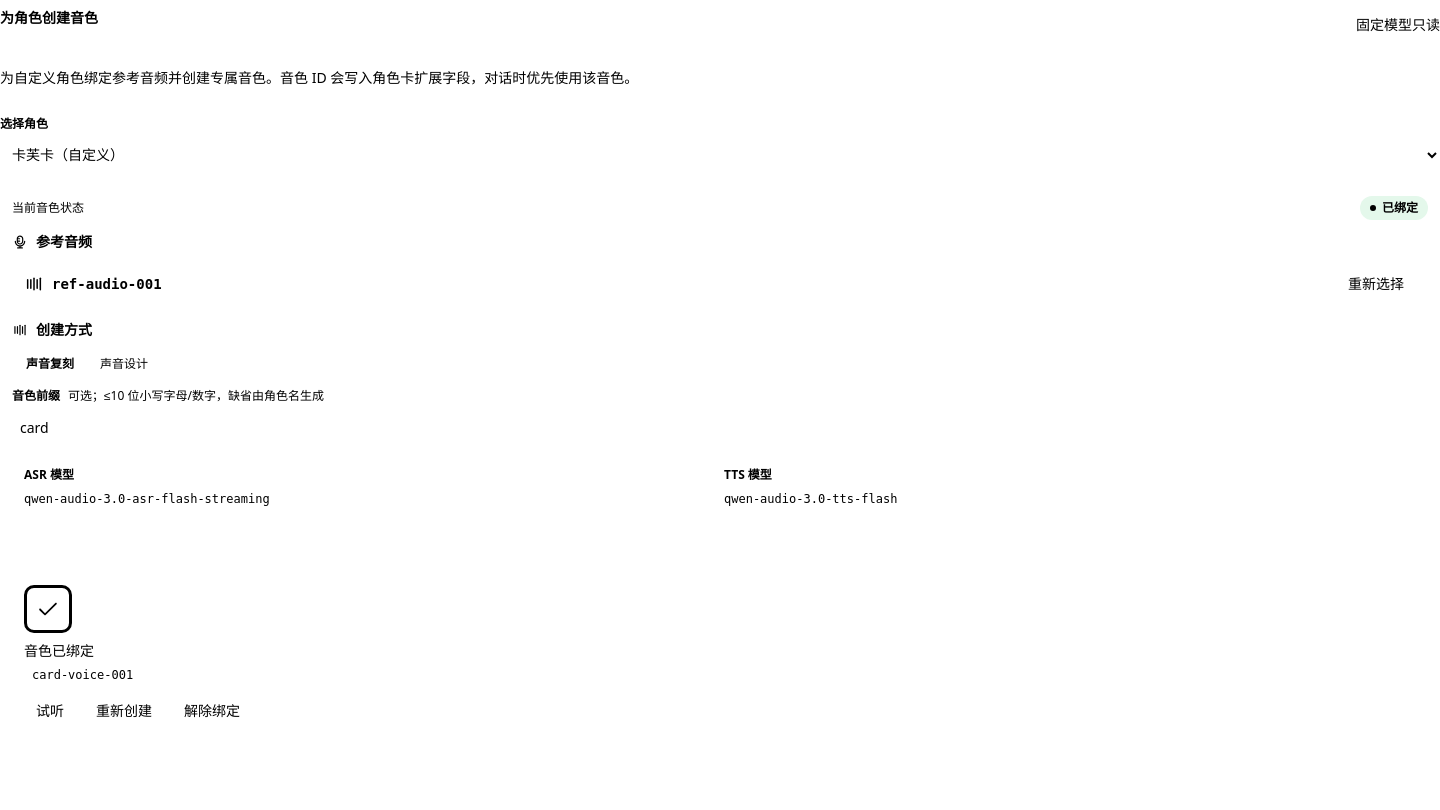
Test: CharacterVoiceSection › 解除绑定需二次确认，确认后经 voice.card_unbind 回到未配置
Expected: the field with test id "prefix-input" holds "card", x1=12 y1=410 x2=1428 y2=444
Step 1. Click the button with test id "unbind-voice-btn" → (212, 711), box x1=172 y1=695 x2=252 y2=727
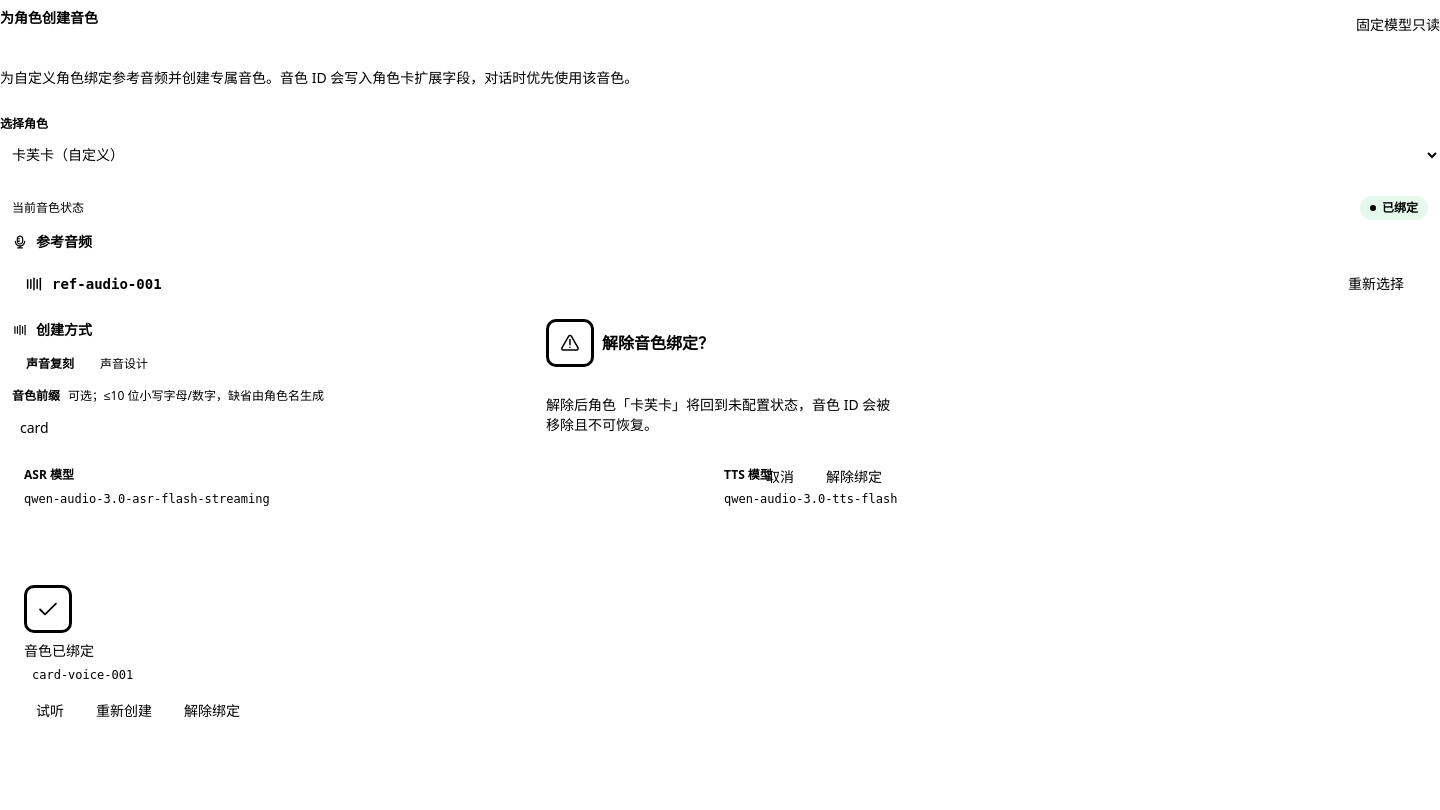
Step 2. Click the button with test id "confirm-cancel" → (780, 477), box x1=754 y1=461 x2=806 y2=493
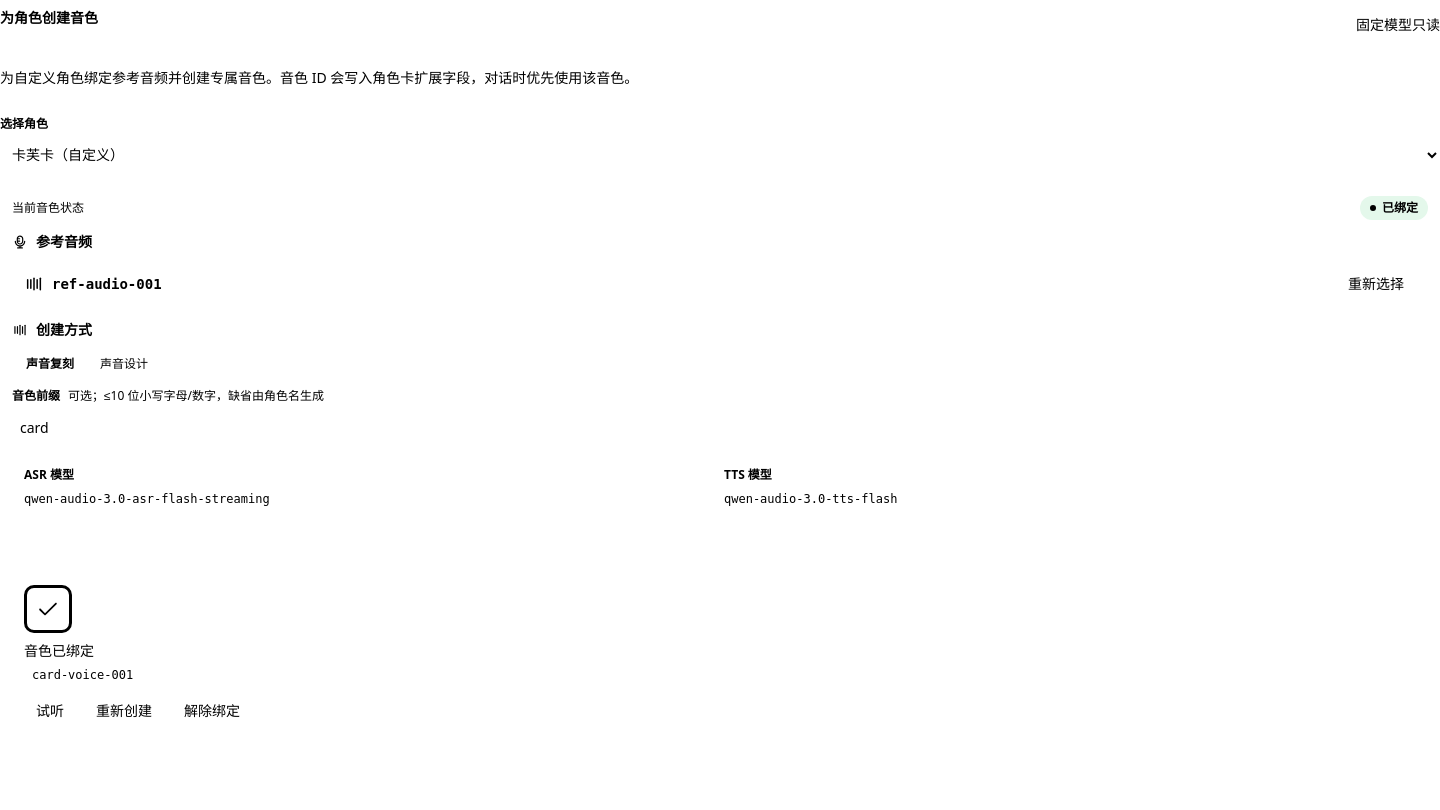
Expected: the dialog with test id "voice-confirm-modal" is gone
Step 3. Click the button with test id "unbind-voice-btn" → (212, 711), box x1=172 y1=695 x2=252 y2=727
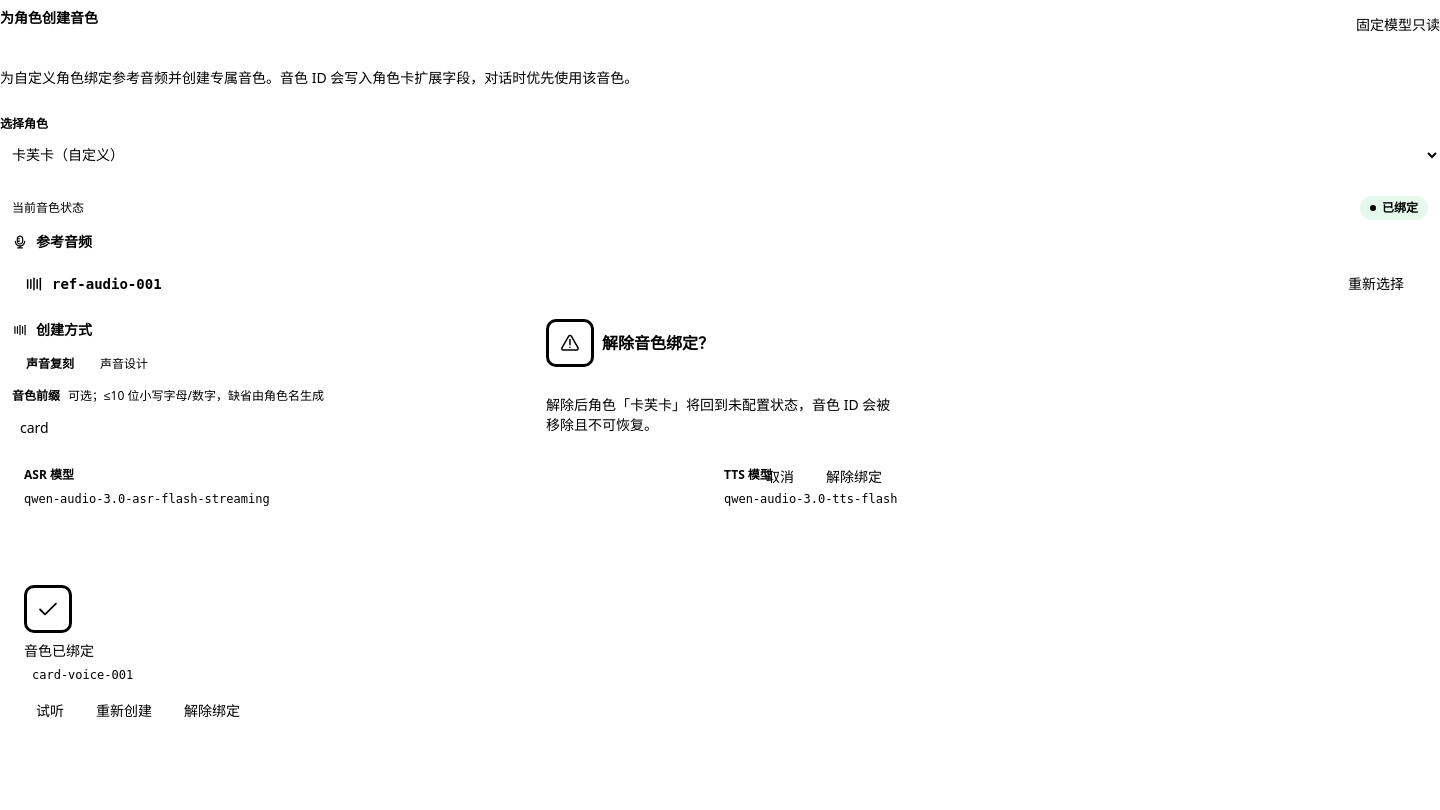
Expected: the dialog with test id "voice-confirm-modal" shows "解除音色绑定？", x1=602 y1=332 x2=714 y2=354
Step 4. Click the button with test id "confirm-ok" → (854, 477), box x1=814 y1=461 x2=894 y2=493
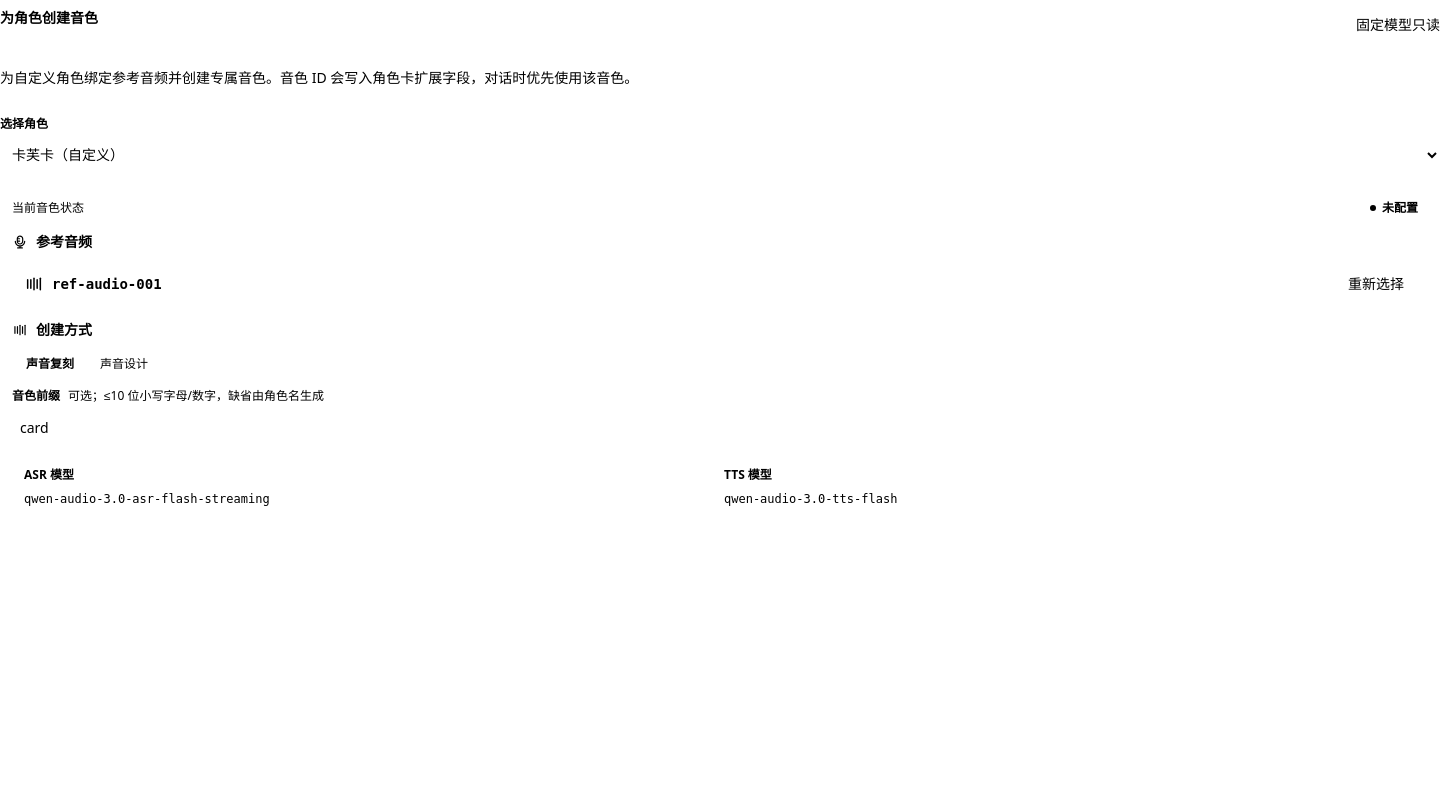
Expected: the element with test id "reference-audio-section" shows "ref-audio-001", x1=52 y1=276 x2=162 y2=292
Expected: the message with test id "voice-state-ready" is gone
Expected: the dialog with test id "voice-confirm-modal" is gone
